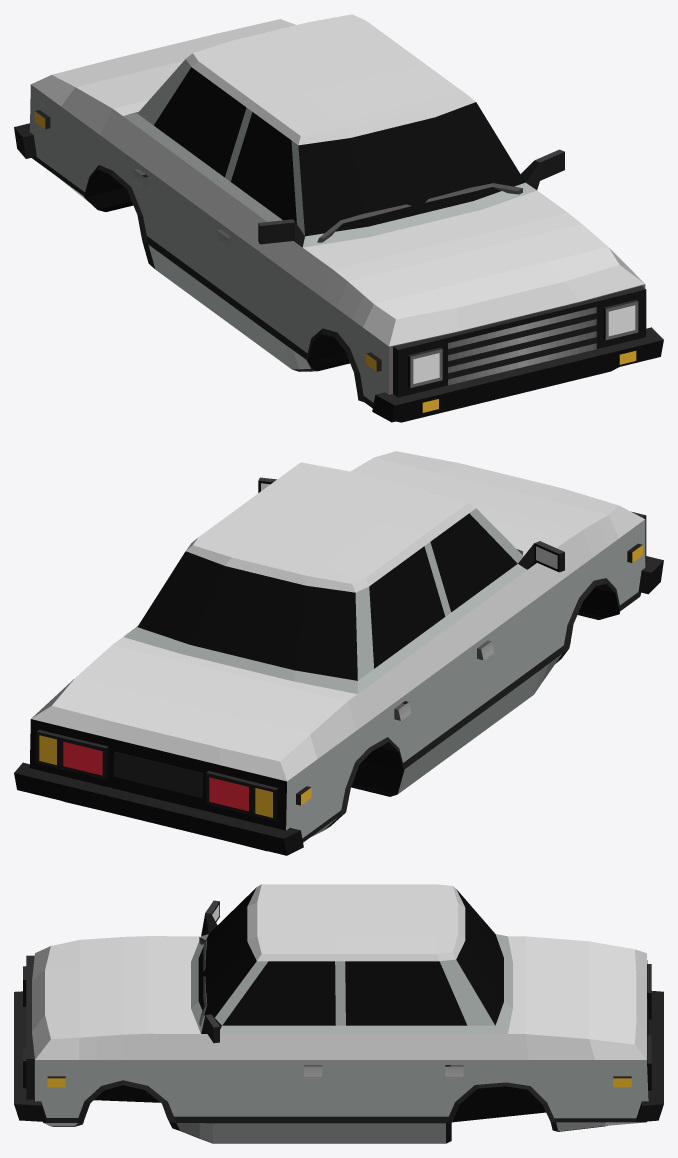
Rendered from Sedan.fbx.
The picture shows the model from 3 angles, top to bottom: view 1: azimuth 30°, elevation 25°; view 2: azimuth 150°, elevation 25°; view 3: azimuth 270°, elevation 25°; orthographic projection. The views are drawn at different scales.
Visible parts, largest first — view 1: Sedan; view 2: Sedan; view 3: Sedan.
Boxes of the visible parts, x1=… form: Sedan: x1=14, y1=14, x2=663, y2=422; Sedan: x1=14, y1=451, x2=663, y2=855; Sedan: x1=14, y1=884, x2=663, y2=1143.
Bounding box in the file's own units: 1.75 × 1.14 × 3.78.
